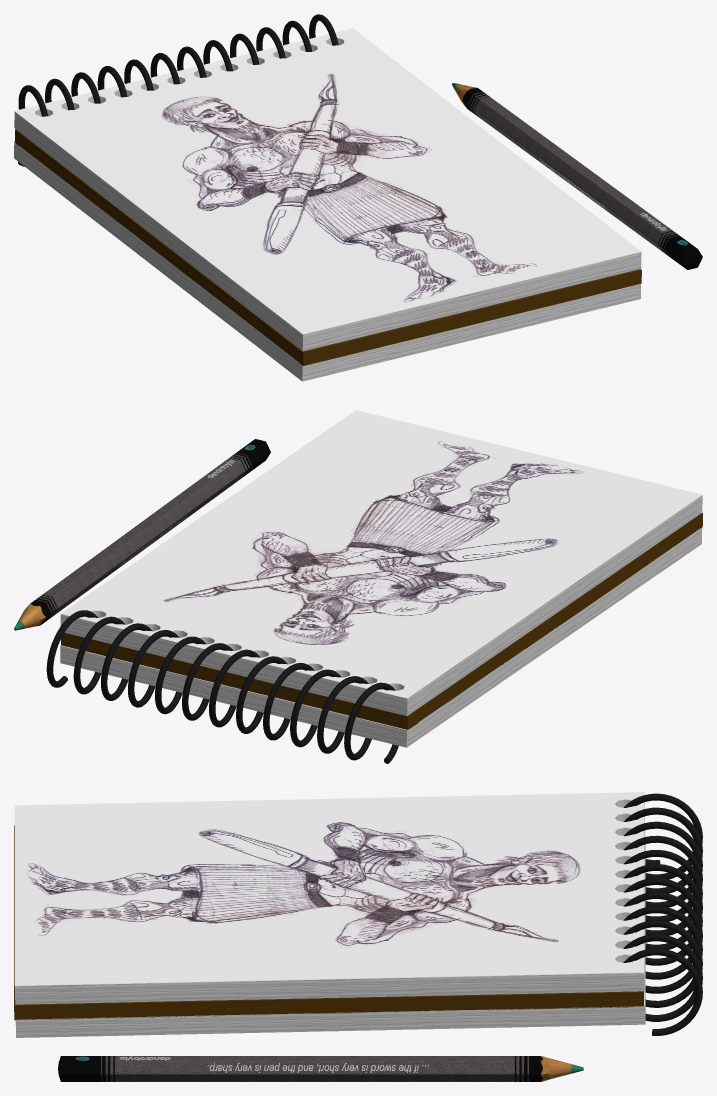
The model's file is DendroPencil.FBX.
3 renders of one model, top to bottom at view 1: azimuth 30°, elevation 25°; view 2: azimuth 150°, elevation 25°; view 3: azimuth 270°, elevation 25°, orthographic. The views are drawn at different scales.
Visible parts, largest first — view 1: SmallWiredDrawing, WiredPages, WiredPages02, BlockCover (×2), Dendropencil, SpiralSmallW; view 2: SmallWiredDrawing, WiredPages, SpiralSmallW, WiredPages02, BlockCover (×2), Dendropencil; view 3: SmallWiredDrawing, WiredPages, Dendropencil, WiredPages02, SpiralSmallW, BlockCover (×2).
Boxes of the visible parts, bbox=[...] form: SmallWiredDrawing: bbox=[15, 28, 640, 333]; WiredPages: bbox=[14, 37, 641, 351]; WiredPages02: bbox=[14, 142, 640, 381]; BlockCover (×2): bbox=[14, 129, 641, 365]; Dendropencil: bbox=[452, 83, 702, 269]; SpiralSmallW: bbox=[18, 14, 338, 166]; SmallWiredDrawing: bbox=[61, 410, 701, 698]; WiredPages: bbox=[60, 495, 702, 715]; SpiralSmallW: bbox=[46, 610, 398, 763]; WiredPages02: bbox=[60, 528, 702, 747]; BlockCover (×2): bbox=[61, 513, 702, 729]; Dendropencil: bbox=[14, 439, 270, 630]; SmallWiredDrawing: bbox=[14, 792, 644, 985]; WiredPages: bbox=[14, 799, 644, 1004]; Dendropencil: bbox=[58, 1056, 583, 1081]; WiredPages02: bbox=[15, 830, 645, 1037]; SpiralSmallW: bbox=[623, 793, 702, 1035]; BlockCover (×2): bbox=[14, 825, 643, 1020].
Size of the model in its own units: 165 by 27.55 by 214.
